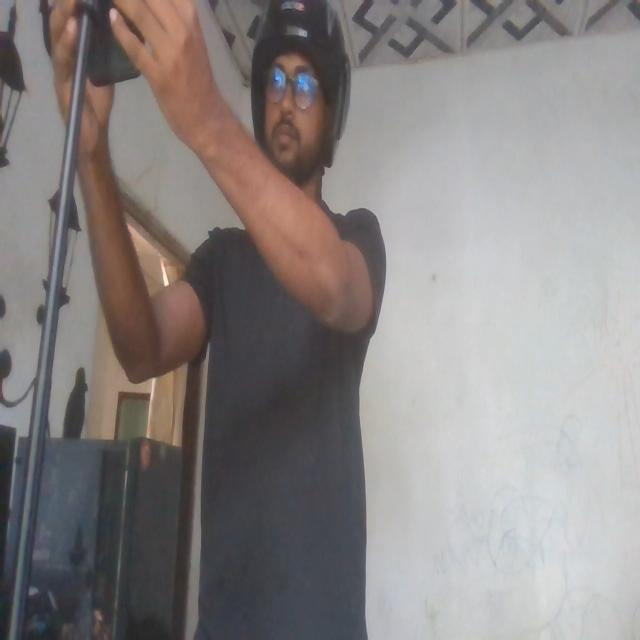Helmet_Wearer: (250, 0, 348, 228)
Person: (160, 0, 380, 640)
